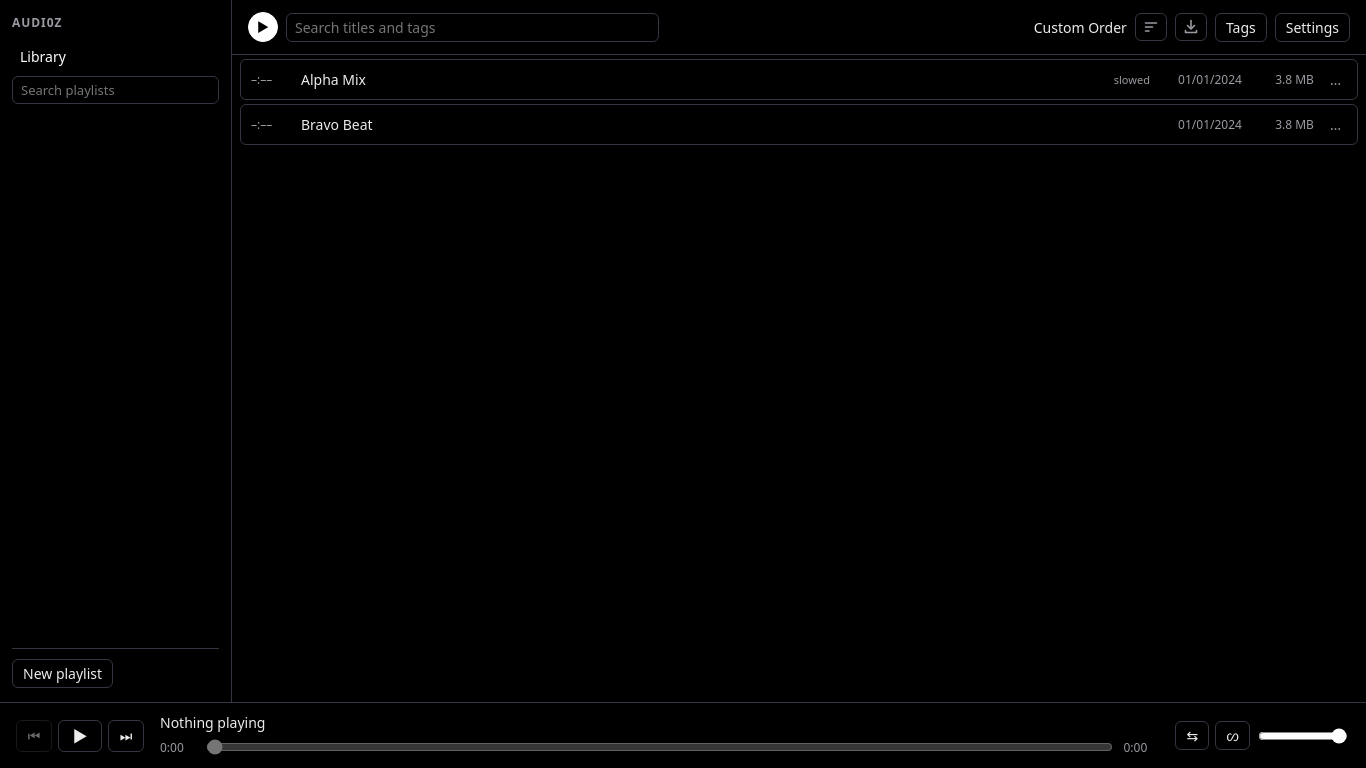
SongRow menu › opens on the ⋯ button and closes again on Escape
This screenshot has width=1366, height=768.
Click the button named "Options for Alpha Mix" at (1335, 80), box [1324,71,1347,89]
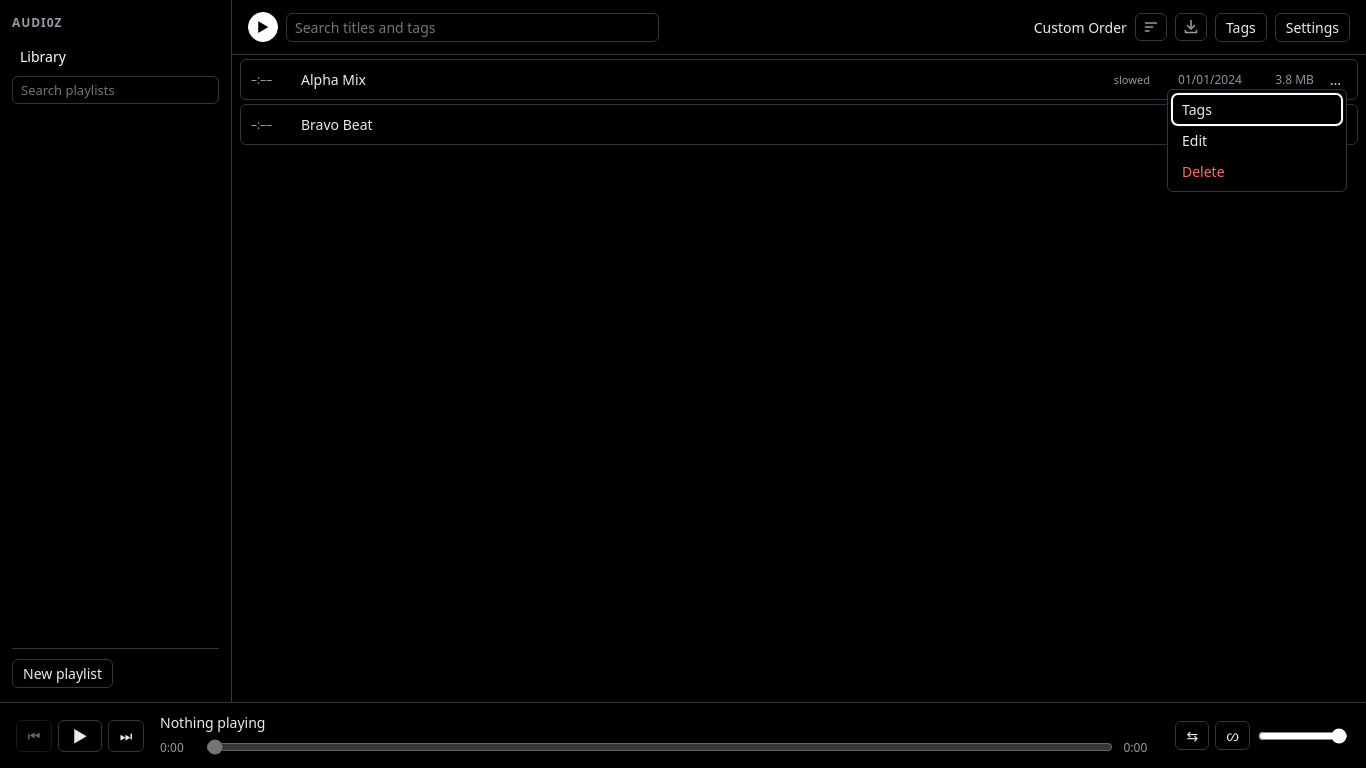
Expected: the button named "Options for Alpha Mix" is expanded, [1324,71,1347,89]
Press Escape
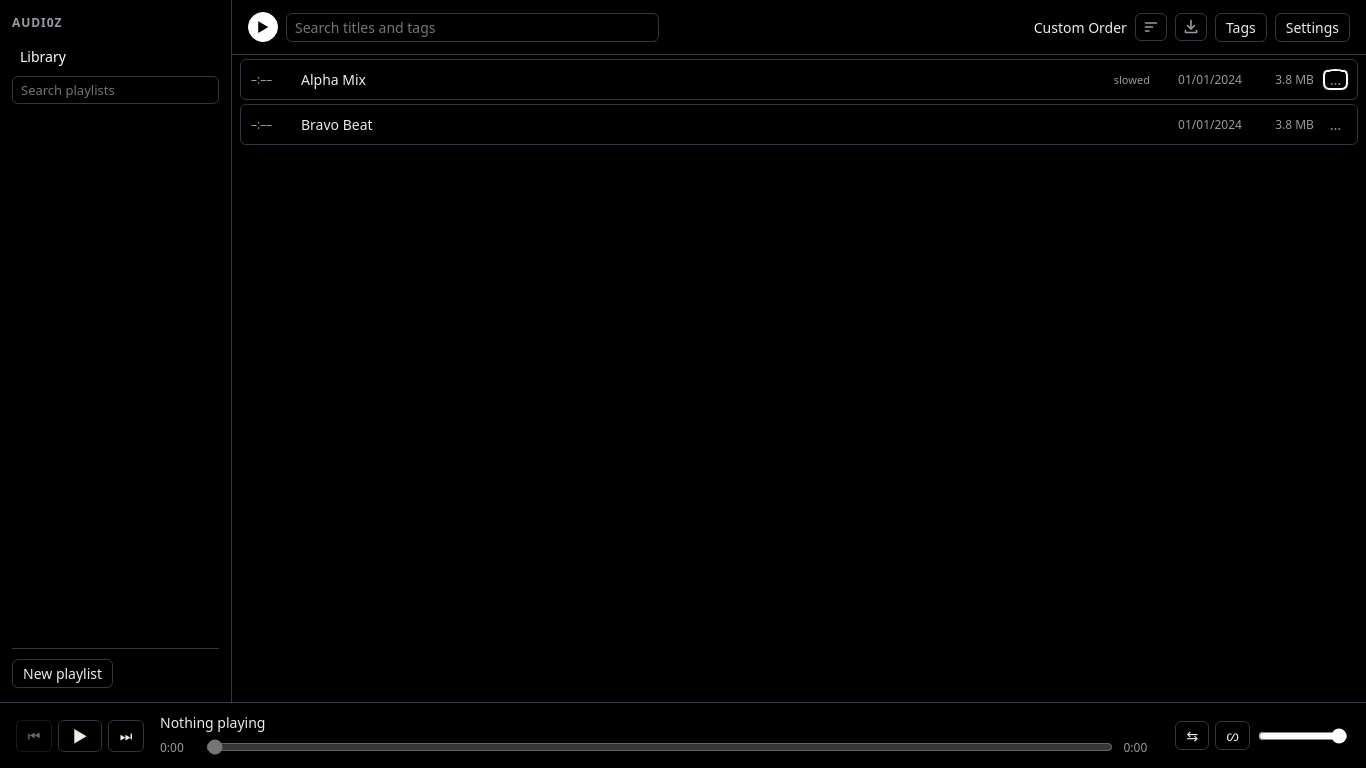
Expected: the menu is gone
